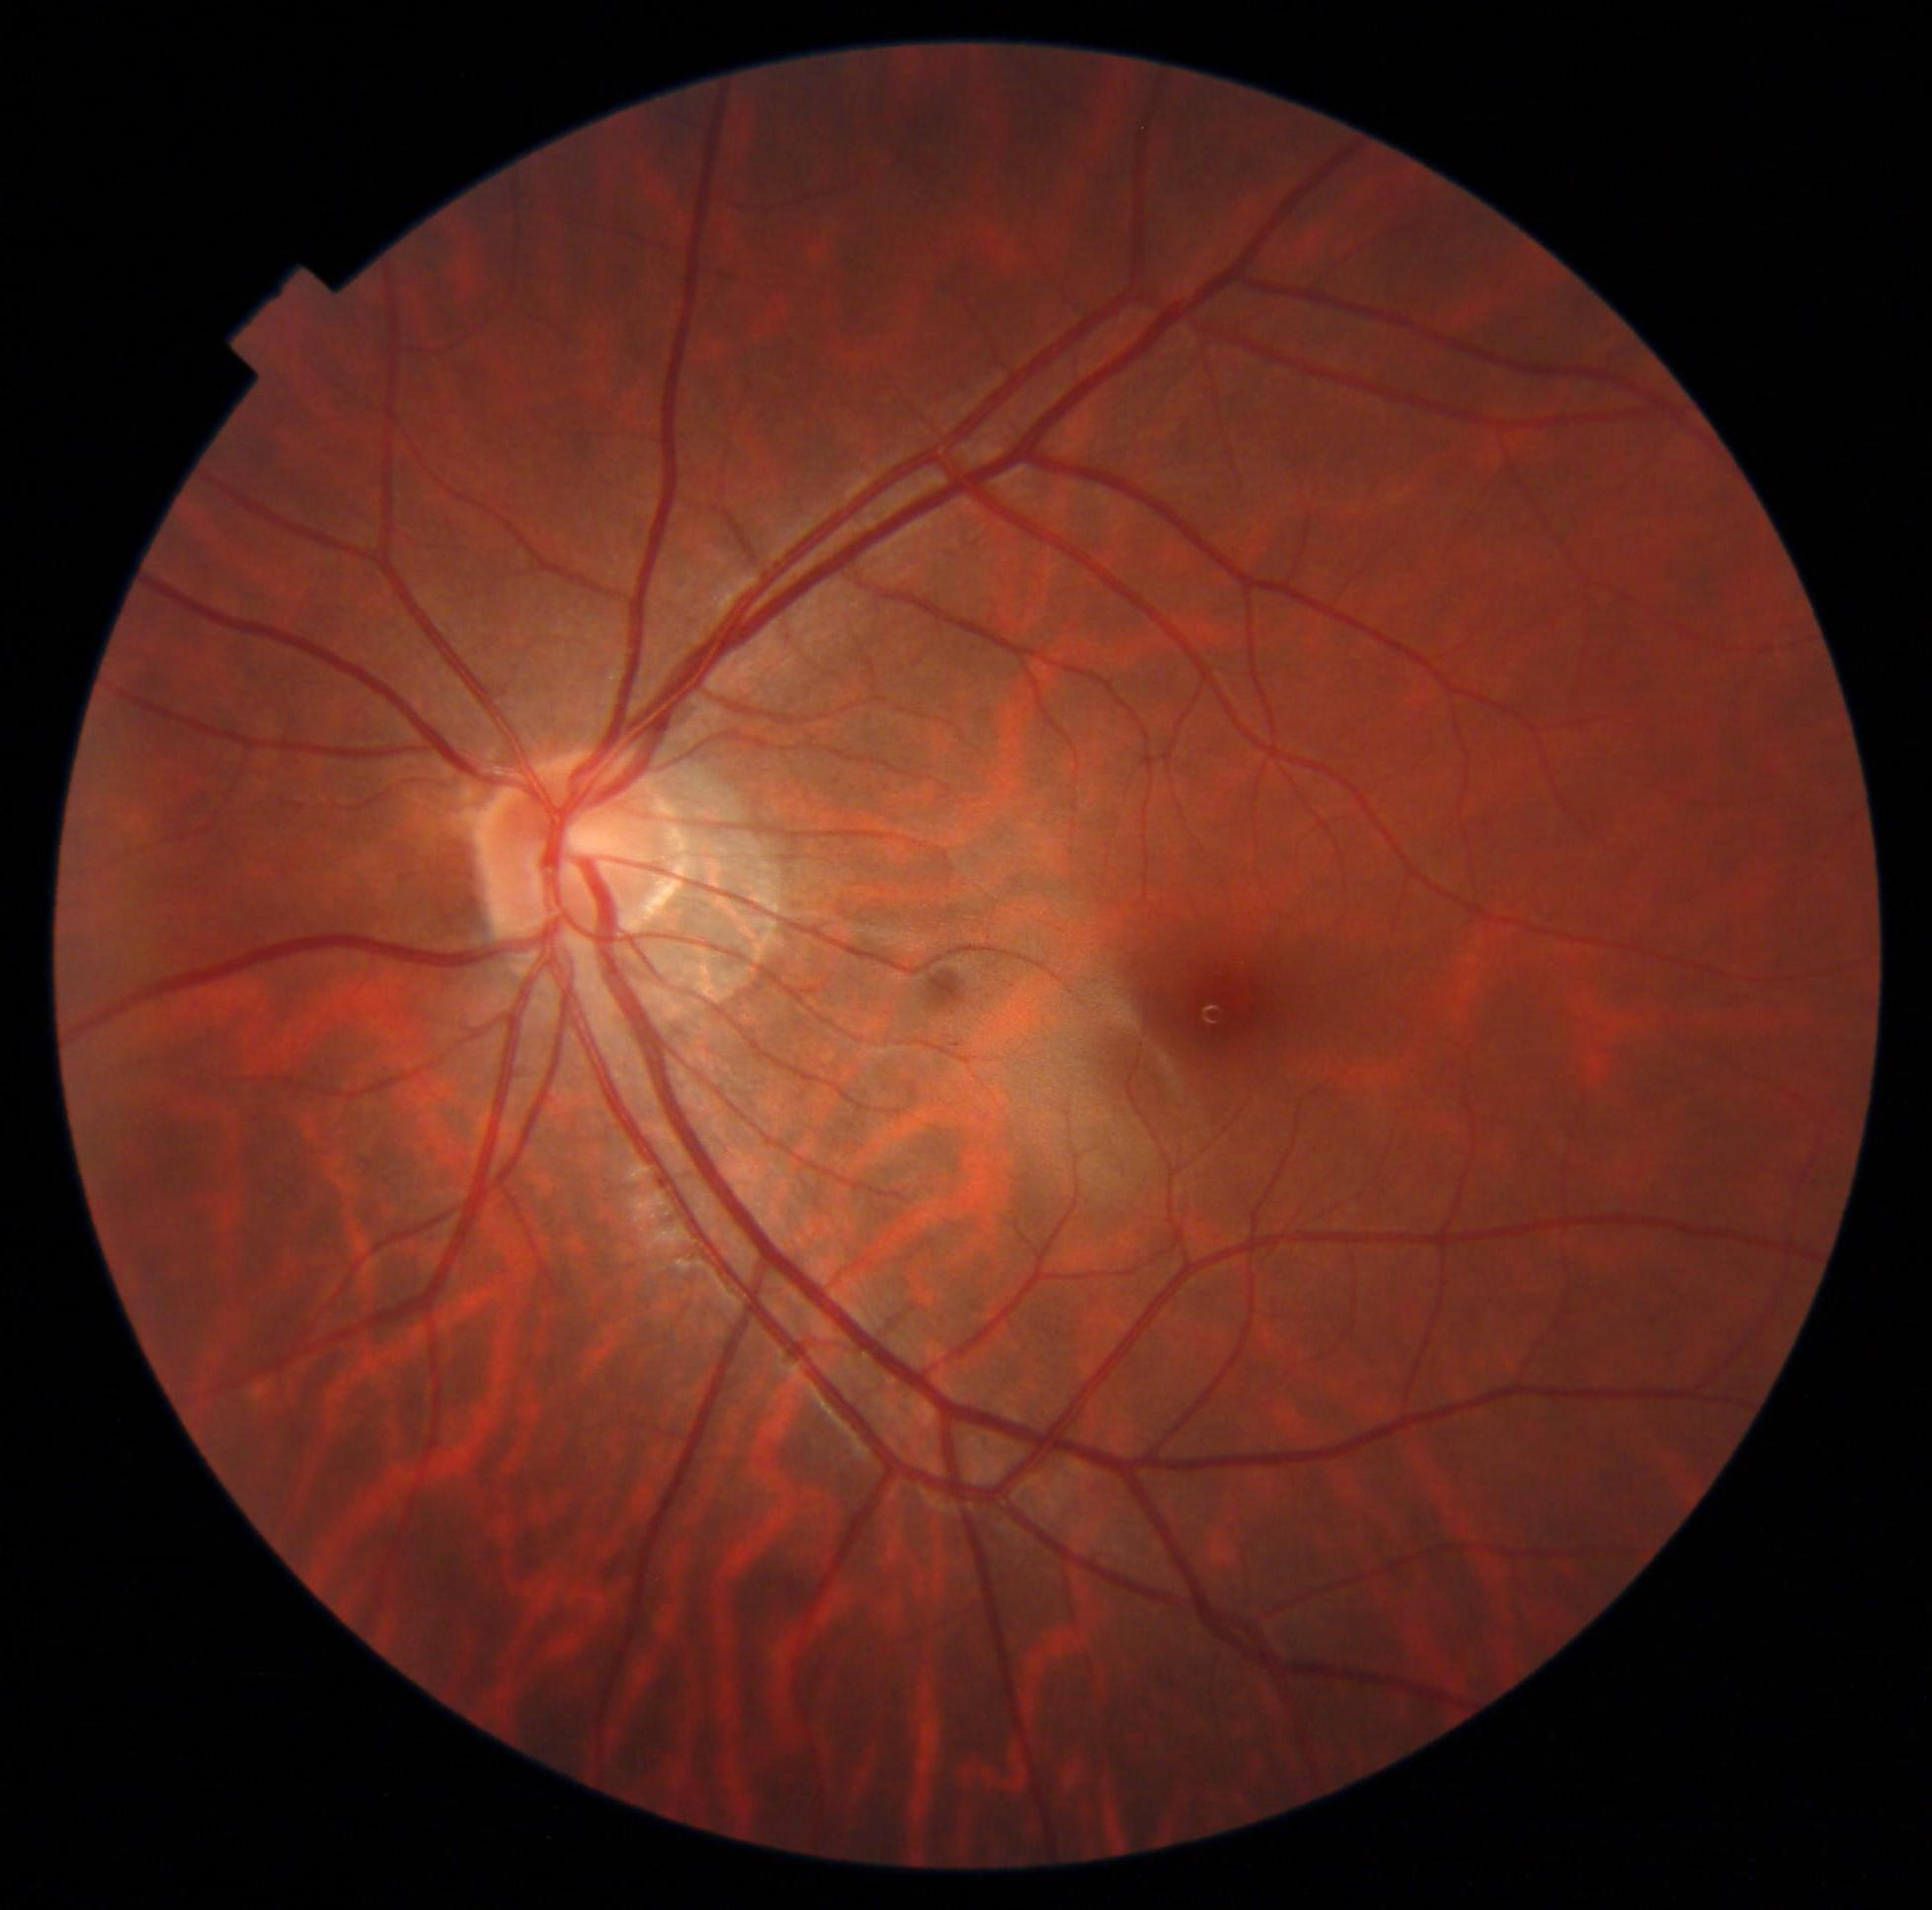Fovea: (1146, 939, 1284, 1081)
